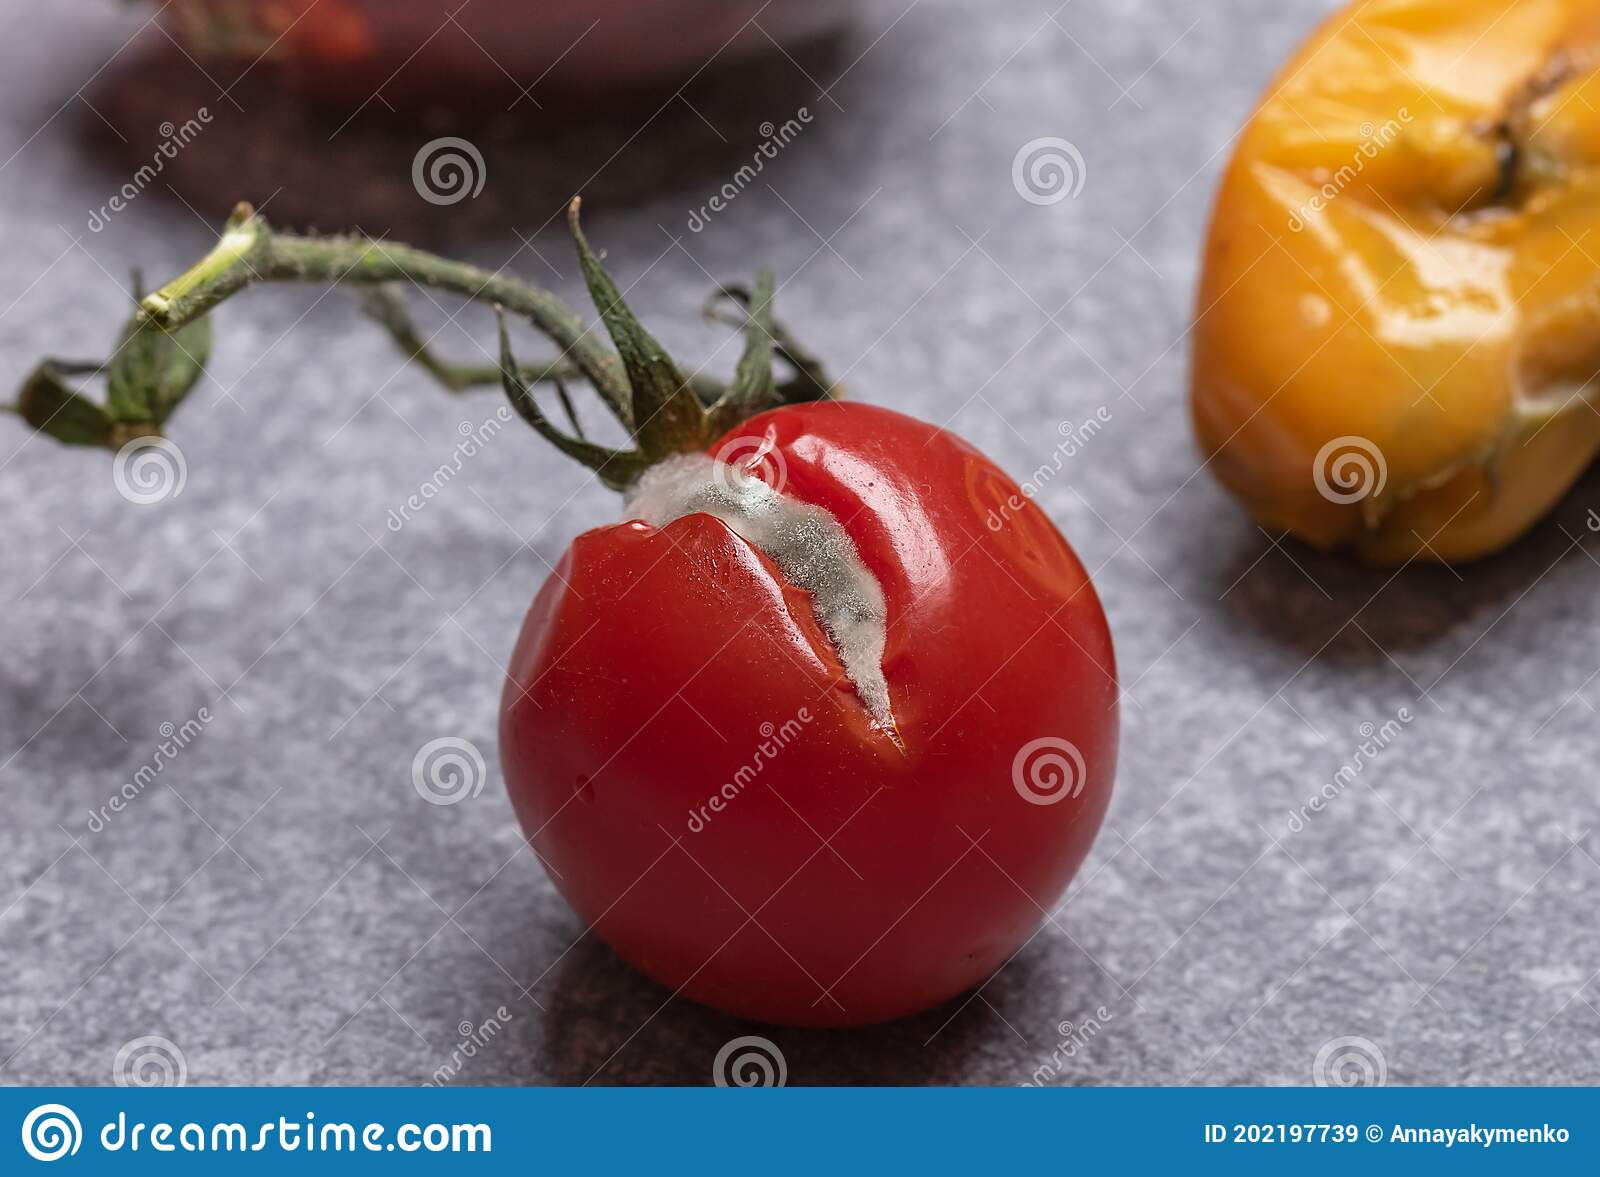Mucor: (602, 436, 957, 756), (227, 244, 455, 300)
